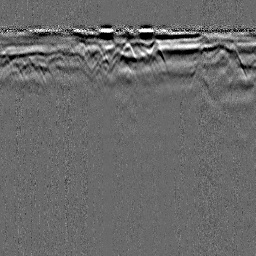cavity: (120, 41, 136, 58)
